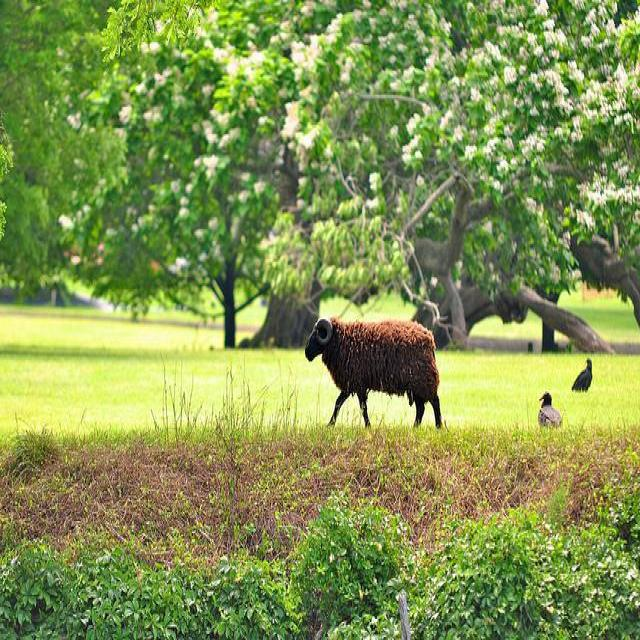Sheep: (302, 318, 443, 429)
